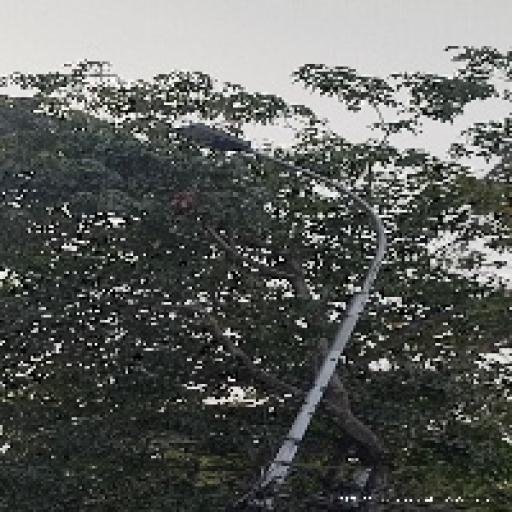Not Working: (165, 112, 262, 165)
